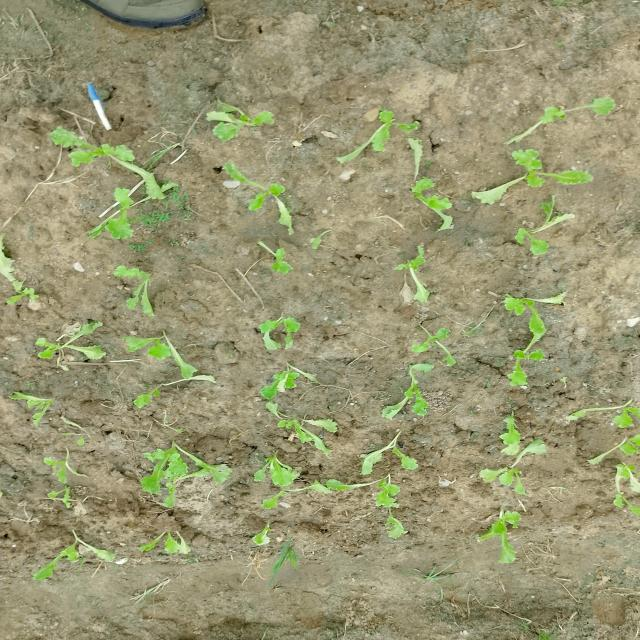Lettuce: (475, 148, 602, 206), (26, 313, 113, 370), (138, 457, 234, 507), (50, 120, 138, 174), (186, 101, 288, 145), (344, 111, 424, 167), (223, 174, 309, 226), (505, 201, 580, 260), (385, 245, 450, 313), (472, 504, 532, 569), (87, 186, 153, 242), (91, 267, 166, 316), (350, 438, 447, 475), (29, 537, 121, 575), (133, 334, 224, 372), (258, 355, 323, 406), (243, 453, 322, 492), (409, 170, 458, 229), (377, 378, 444, 421), (252, 223, 306, 276), (0, 224, 37, 300), (10, 378, 60, 434), (488, 411, 545, 460), (473, 459, 535, 503), (501, 289, 548, 346), (600, 452, 640, 516), (588, 400, 640, 448), (495, 349, 554, 389), (33, 454, 79, 505), (247, 321, 314, 353), (286, 406, 342, 444), (361, 481, 416, 513), (398, 332, 452, 363), (160, 524, 200, 564), (253, 522, 299, 550), (387, 514, 418, 537)
